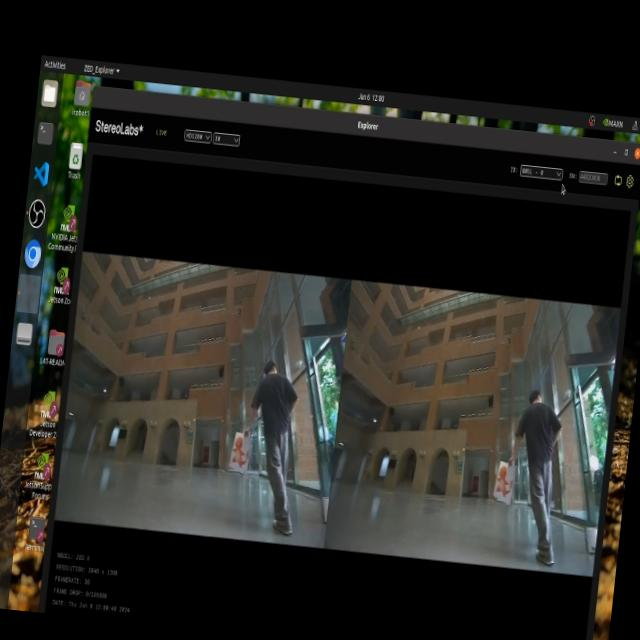red: (223, 430, 258, 480), (491, 460, 526, 508)
